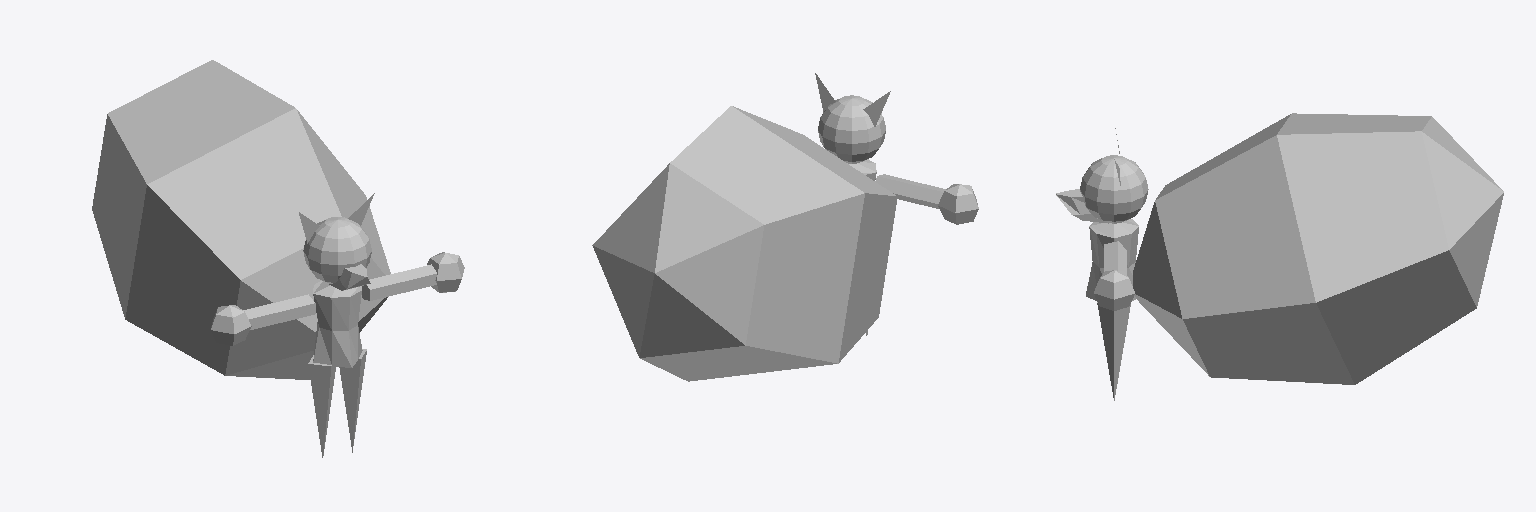
The model's file is Head.obj.
3 views of the same model, side by side, from view 1: azimuth 30°, elevation 25°; view 2: azimuth 150°, elevation 25°; view 3: azimuth 270°, elevation 25° (orthographic).
Parts seen in each view (by area): view 1: Sphere.002, Cube, Head, Cylinder, Cylinder.001, Cone.001, Sphere.001, Cone, Sphere, Muzzle; view 2: Sphere.002, Head, Sphere.001, Cylinder.001; view 3: Sphere.002, Head, Cube, Cone, Sphere, Muzzle, Cylinder.
Part boxes in pixels (x1,y1,x2,y2): Sphere.002: (92, 60, 390, 379); Cube: (313, 281, 362, 367); Head: (303, 217, 371, 283); Cylinder: (362, 264, 436, 300); Cylinder.001: (243, 294, 315, 329); Cone.001: (308, 355, 335, 457); Sphere.001: (211, 305, 251, 345); Cone: (339, 349, 366, 452); Sphere: (427, 252, 464, 292); Muzzle: (329, 264, 370, 290); Sphere.002: (592, 106, 897, 381); Head: (818, 95, 885, 163); Sphere.001: (938, 184, 978, 224); Cylinder.001: (875, 174, 945, 208); Sphere.002: (1133, 113, 1503, 384); Head: (1080, 155, 1148, 223); Cube: (1086, 219, 1138, 300); Cone: (1097, 302, 1130, 400); Sphere: (1094, 270, 1134, 310); Muzzle: (1056, 189, 1108, 223); Cylinder: (1104, 241, 1126, 274).
Size of the model in its own units: 8.61 by 8.97 by 13.05.